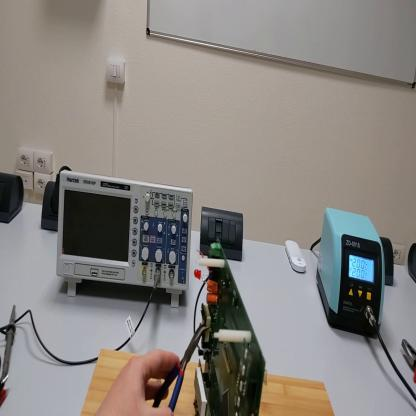hand: (97, 348, 179, 414)
low voltage board: (196, 238, 270, 416)
oscilloscope: (59, 167, 194, 310)
oscilloscope probe tip: (2, 302, 16, 381)
pliers: (153, 324, 208, 414), (402, 338, 415, 383)
socket: (2, 174, 24, 225), (42, 177, 57, 229), (381, 239, 395, 285), (408, 241, 415, 282)
welder station: (317, 210, 385, 338)
working area: (82, 345, 334, 412)
